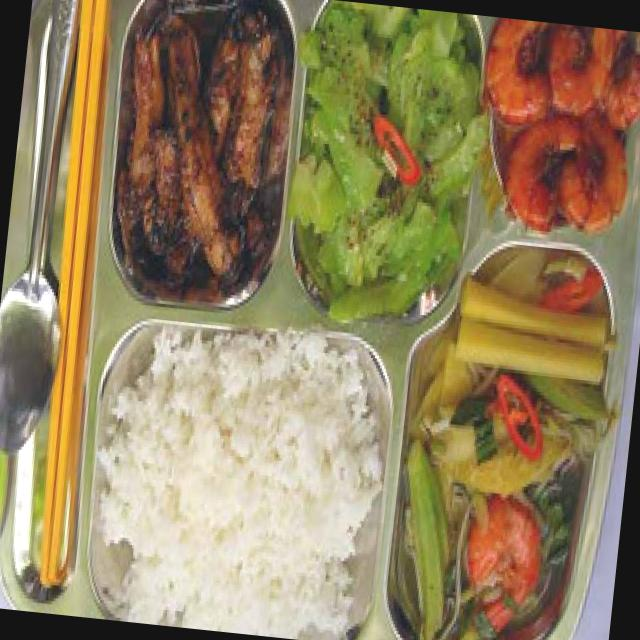canh chua: (398, 250, 613, 640)
com: (93, 326, 385, 634)
kho qua: (291, 3, 485, 322)
suon mieng: (112, 0, 293, 304)
tom: (485, 20, 640, 234)
